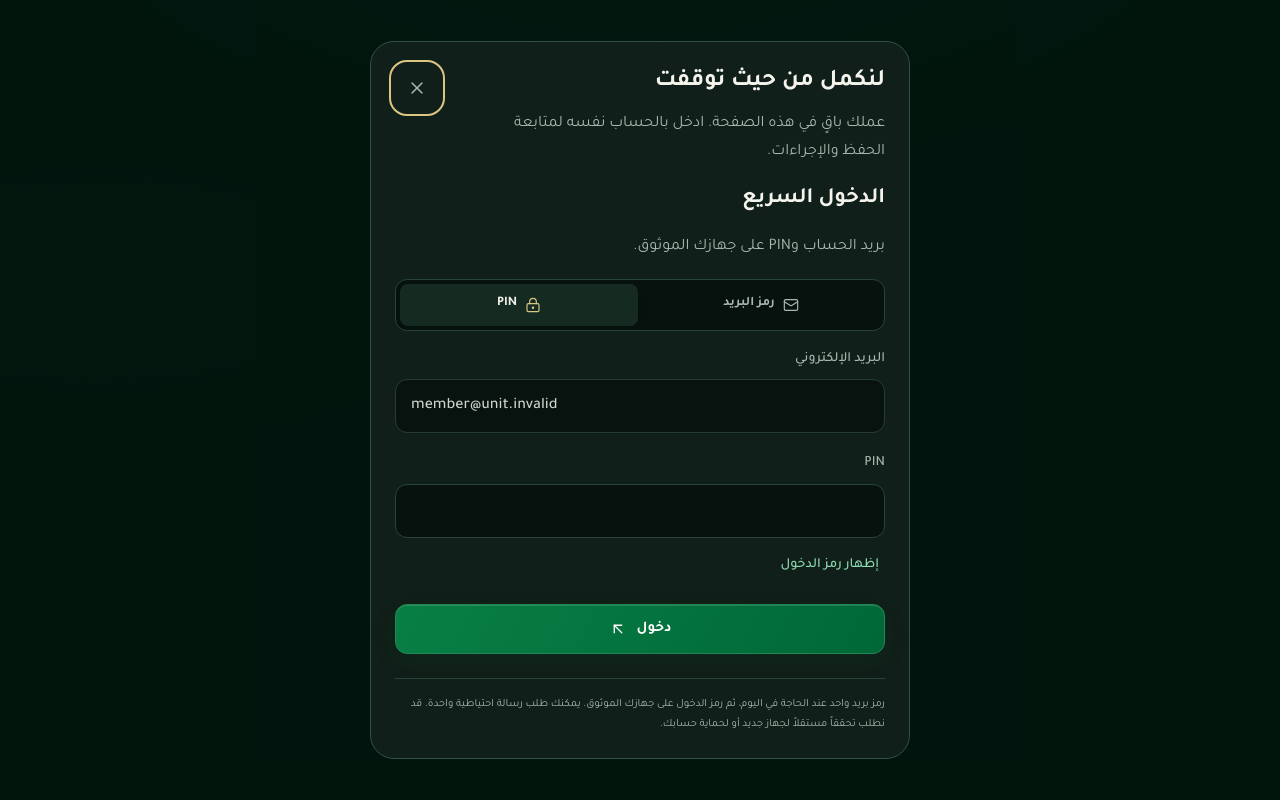
Accessible notification inbox and in-place return › receives an expired session signal from private requests but does not reopen during failed login attempts
Click the button named "إغلاق والعودة إلى عملي". click: x=417, y=88
box: top-left (395, 66), bottom-right (439, 110)
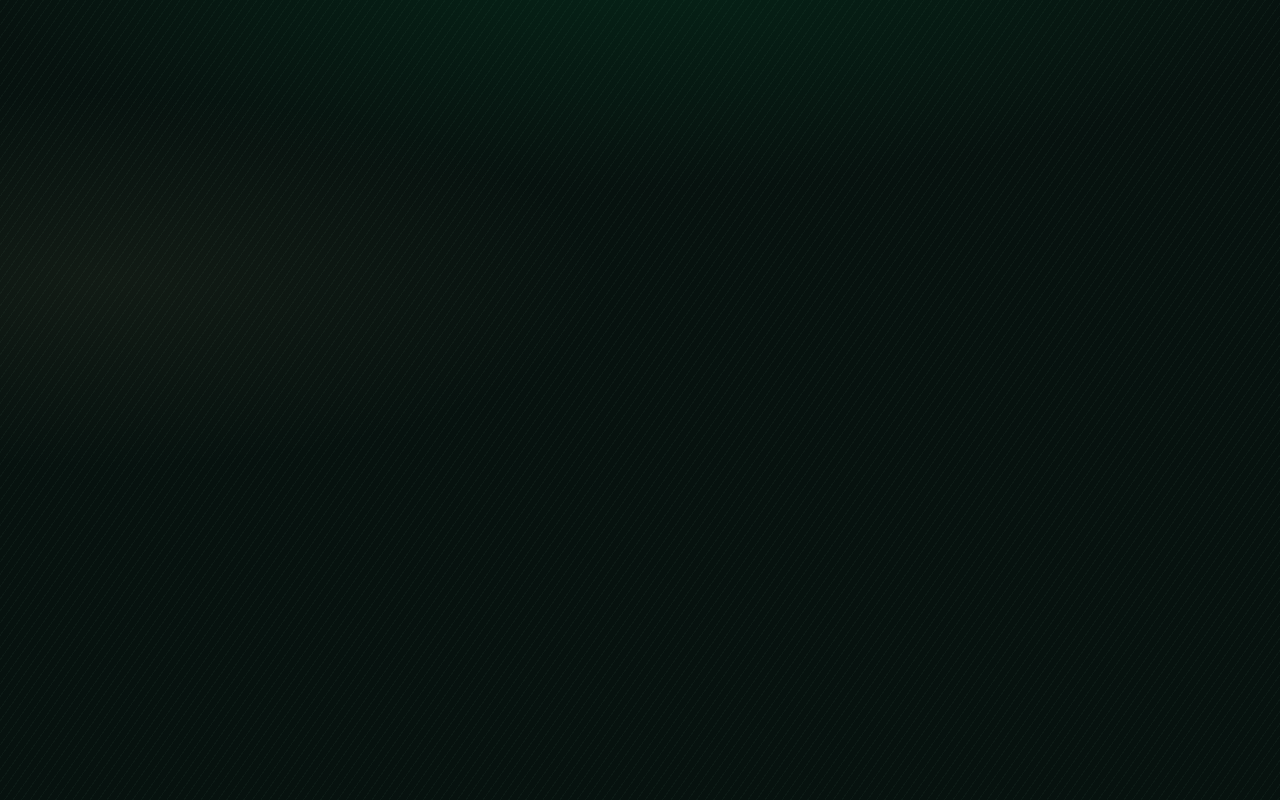
Expected: the dialog is gone
